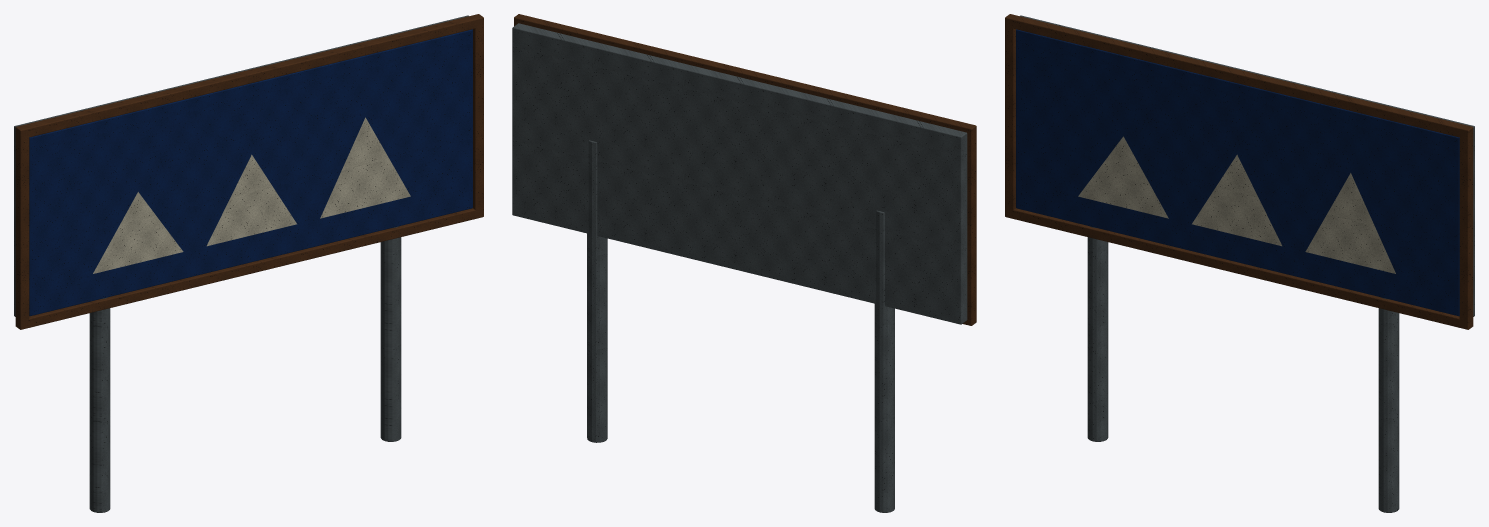
The model's file is PROP-E6E25A6FDF99_lod0.glb.
3 views of the same model, side by side, from view 1: azimuth 30°, elevation 25°; view 2: azimuth 150°, elevation 25°; view 3: azimuth 330°, elevation 25° (orthographic).
Parts seen in each view (by area): view 1: painted_sign_face.004, frame.004, original_mountain_graphic.004, sign_support.004, panel_back.004; view 2: panel_back.004, sign_support.004, frame.004; view 3: painted_sign_face.004, frame.004, original_mountain_graphic.004, sign_support.004, panel_back.004.
Boxes of the visible parts, left/top/right/bottom form: painted_sign_face.004: left=29, top=29, right=472, bottom=316; frame.004: left=15, top=14, right=483, bottom=329; original_mountain_graphic.004: left=93, top=117, right=410, bottom=273; sign_support.004: left=89, top=226, right=401, bottom=512; panel_back.004: left=14, top=15, right=468, bottom=316; panel_back.004: left=512, top=23, right=967, bottom=324; sign_support.004: left=587, top=140, right=894, bottom=512; frame.004: left=514, top=14, right=976, bottom=325; painted_sign_face.004: left=1016, top=29, right=1459, bottom=316; frame.004: left=1005, top=14, right=1473, bottom=329; original_mountain_graphic.004: left=1078, top=136, right=1395, bottom=273; sign_support.004: left=1087, top=226, right=1399, bottom=512; panel_back.004: left=1020, top=15, right=1474, bottom=316.
Bounding box in the file's own units: 5.1 × 4.25 × 0.23.
4 materials, 4 textured.
